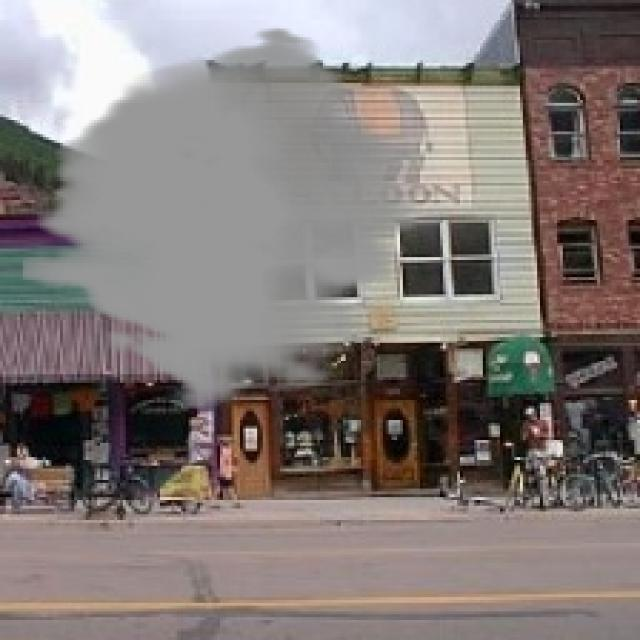Smoke: (23, 26, 420, 412)
